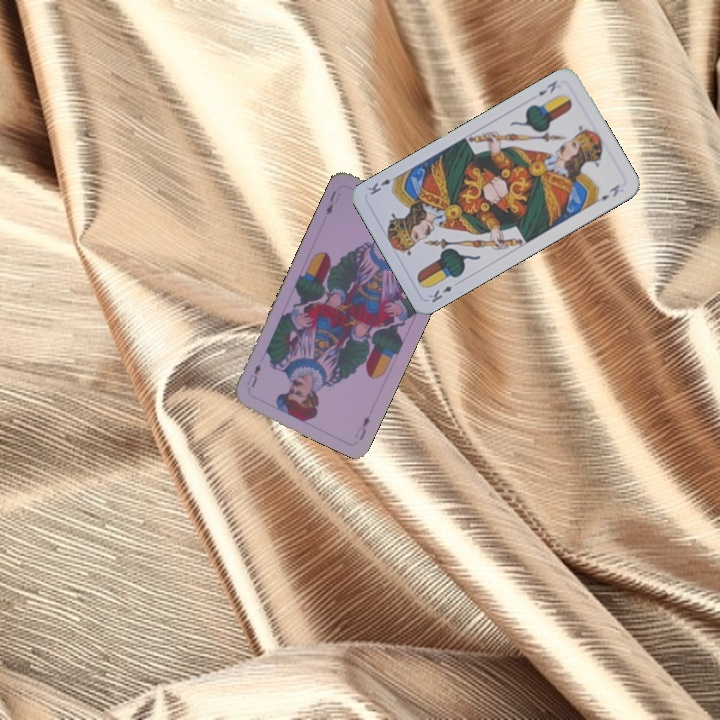EK: (424, 282, 455, 306), (534, 76, 560, 98)
EU: (350, 412, 373, 443), (322, 187, 344, 218)
